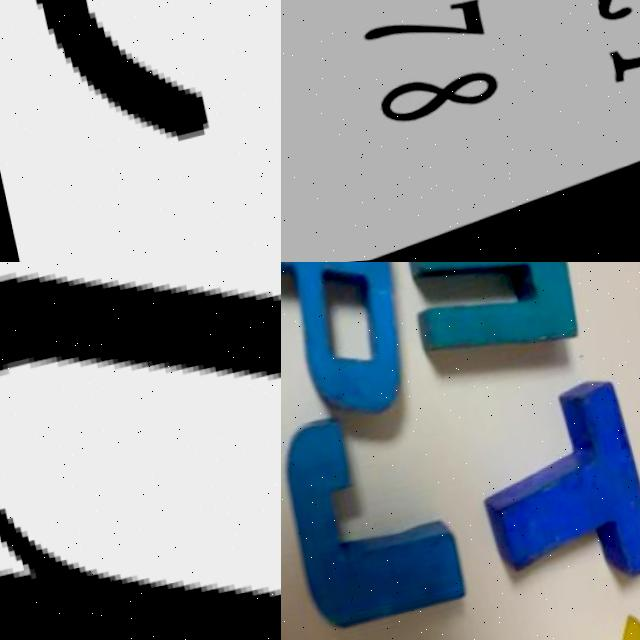1: (588, 14, 640, 105)
7: (332, 0, 501, 87)
8: (343, 46, 521, 156)
J: (281, 402, 466, 640)
M: (387, 262, 585, 378)
P: (281, 262, 420, 444)
T: (463, 377, 640, 630)
U: (0, 262, 281, 640)
